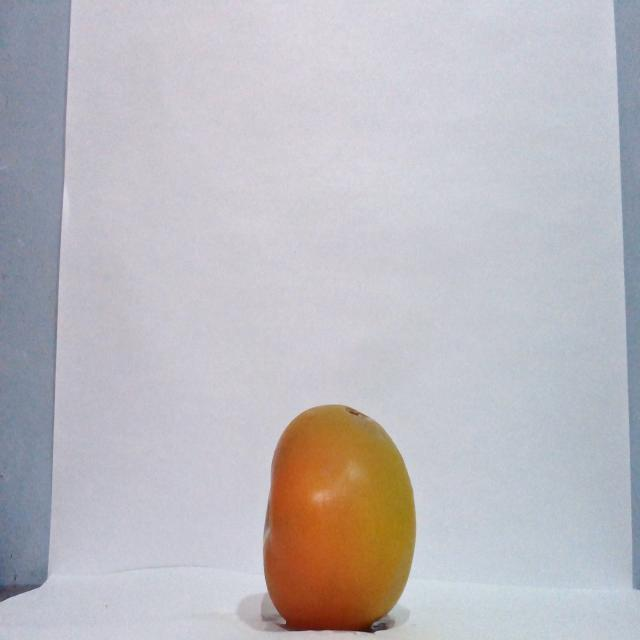Red: (261, 402, 417, 631)
